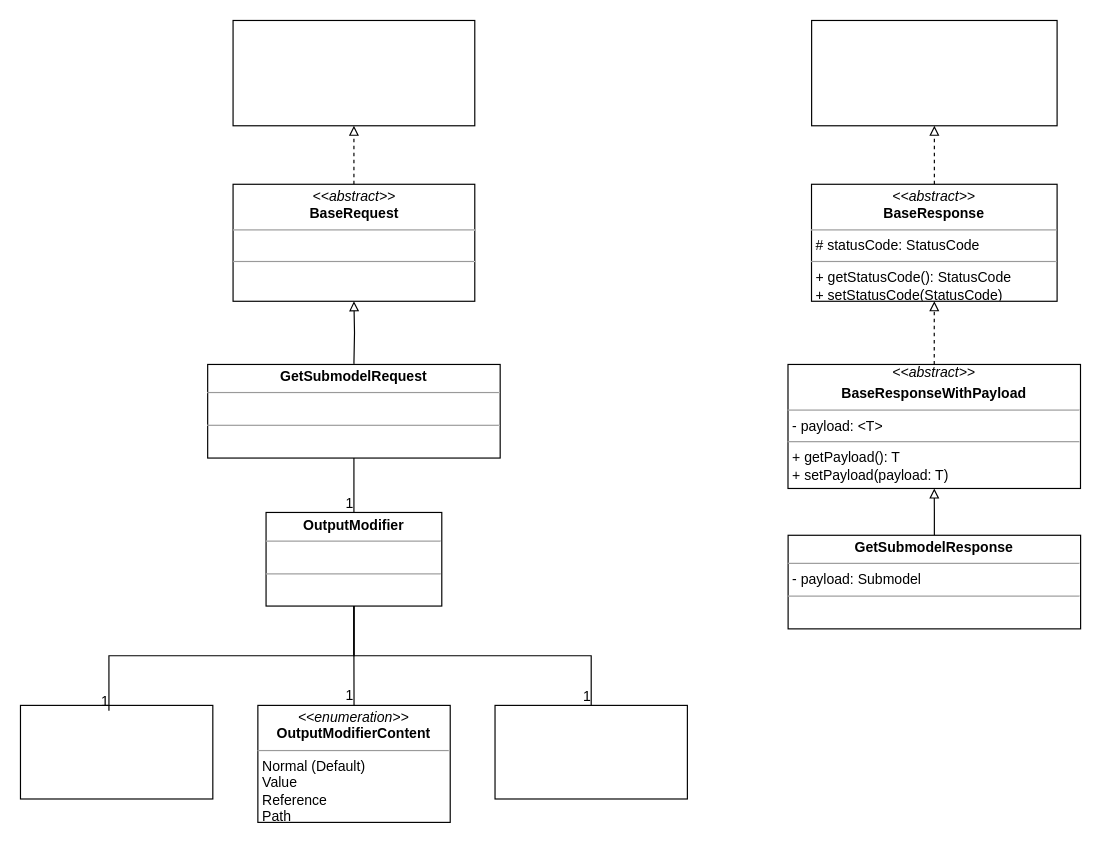
Image size: 1102x844. Some labels were removed from this diagram. Here are the shapes that lost their labels. From the top down, the centre of each, then its label:
At (x=353, y=72): "<<Interface>> Request".
At (x=933, y=72): "<<Interface>> Response".
At (x=116, y=751): "<<enumeration>> OutputModifier Level Deep (Default) Core".
At (x=590, y=751): "<<enumeration>> OutputModifier Extent WithoutBLOBValue (Default) WithBLOBValue".
